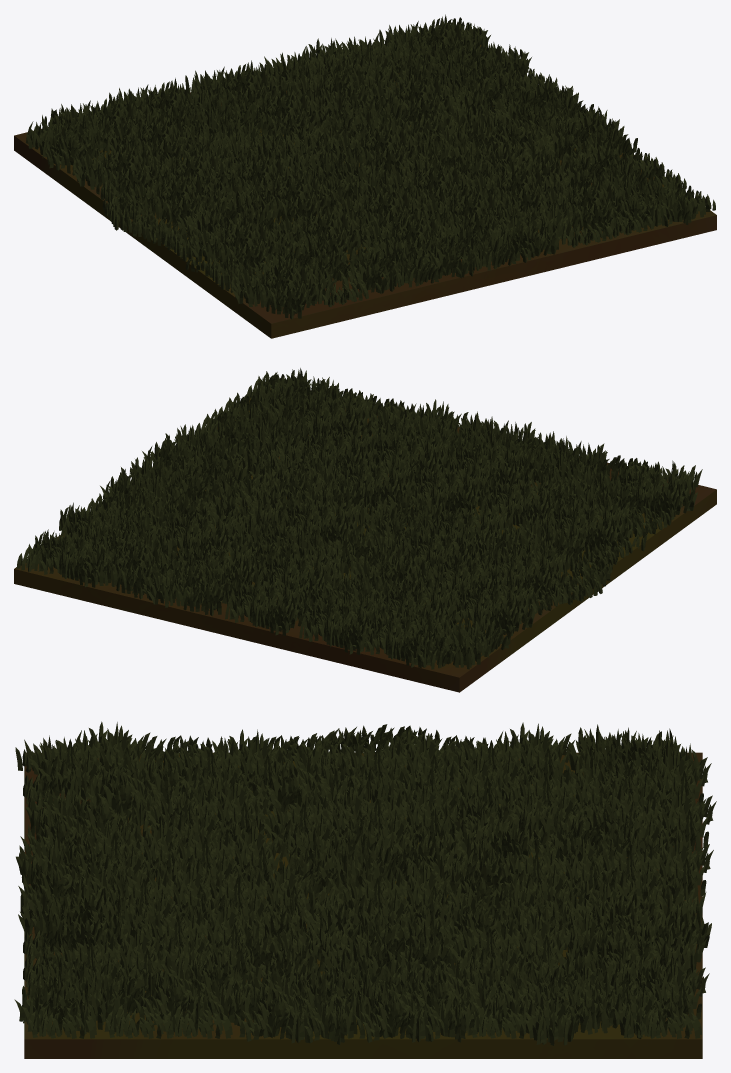
The model's file is Forest.glb.
The picture shows the model from 3 angles, top to bottom: view 1: azimuth 30°, elevation 25°; view 2: azimuth 150°, elevation 25°; view 3: azimuth 270°, elevation 25°; orthographic projection. The views are drawn at different scales.
Visible parts, largest first — view 1: Cube; view 2: Cube; view 3: Cube.
Boxes of the visible parts, <box> form: Cube: <box>14,14,716,338</box>; Cube: <box>14,368,716,692</box>; Cube: <box>14,721,716,1058</box>.
Bounding box in the file's own units: 21.42 × 1.74 × 20.73.
1 material, 1 textured.
